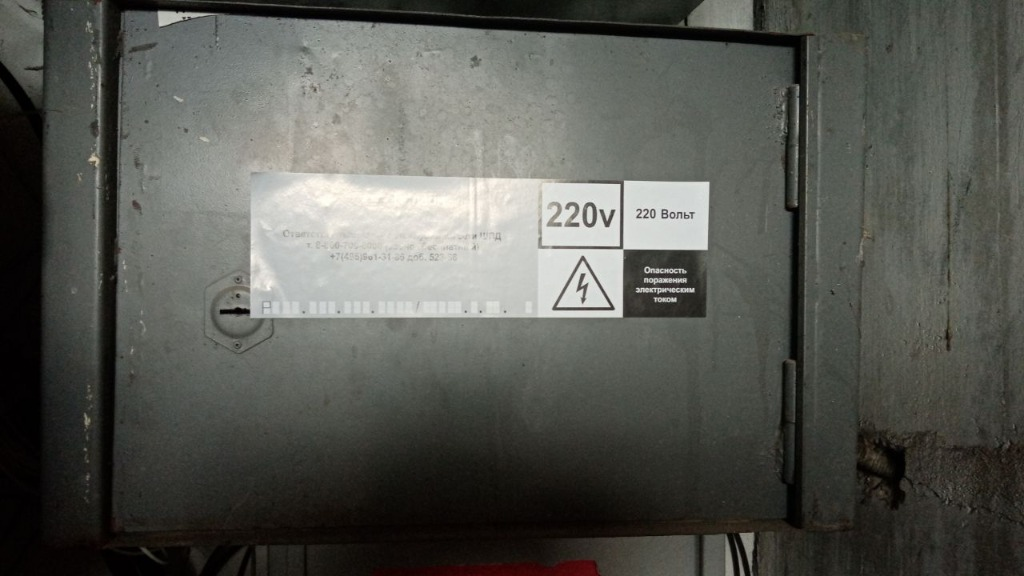e2-6u: (29, 6, 869, 545)
